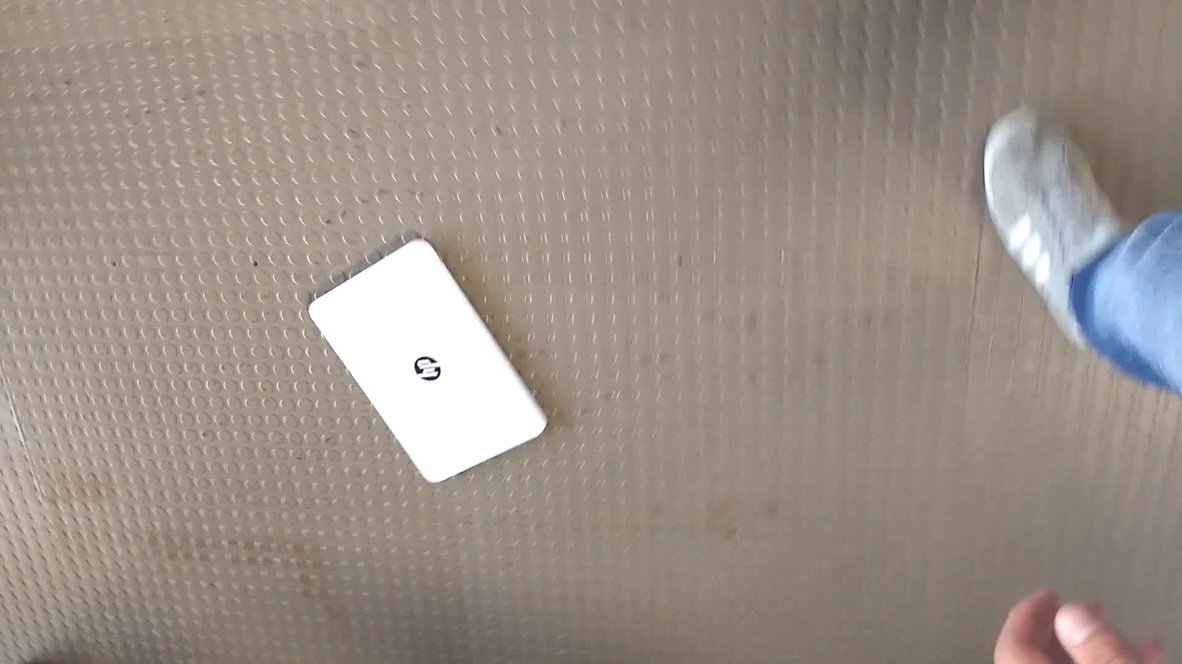laptop: (302, 234, 558, 493)
